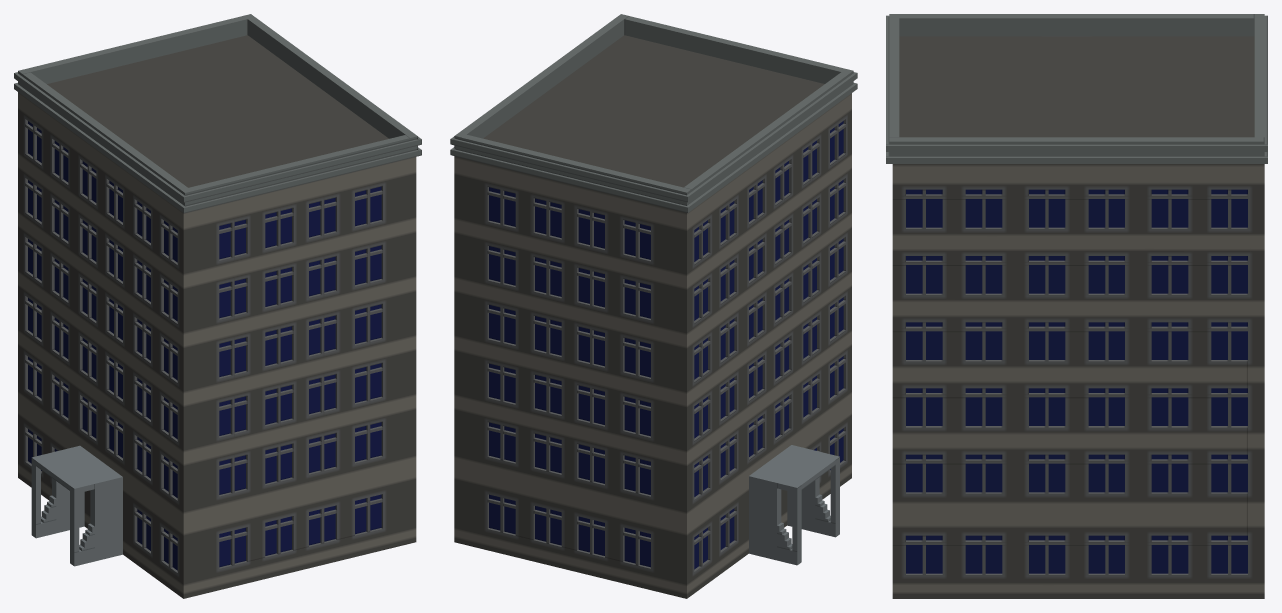
The model's file is budynek_mieszkalny_002.dae.
3 views of the same model, side by side, from view 1: azimuth 30°, elevation 25°; view 2: azimuth 150°, elevation 25°; view 3: azimuth 270°, elevation 25° (orthographic). The views are drawn at different scales.
Visible parts, largest first — view 1: Content; view 2: Content; view 3: Content.
Part boxes in pixels (<box>): Content: <box>14,14,421,598</box>; Content: <box>450,14,857,598</box>; Content: <box>886,14,1267,598</box>.
Bounding box in the file's own units: 111 × 152 × 115.
1 material, 1 textured.
